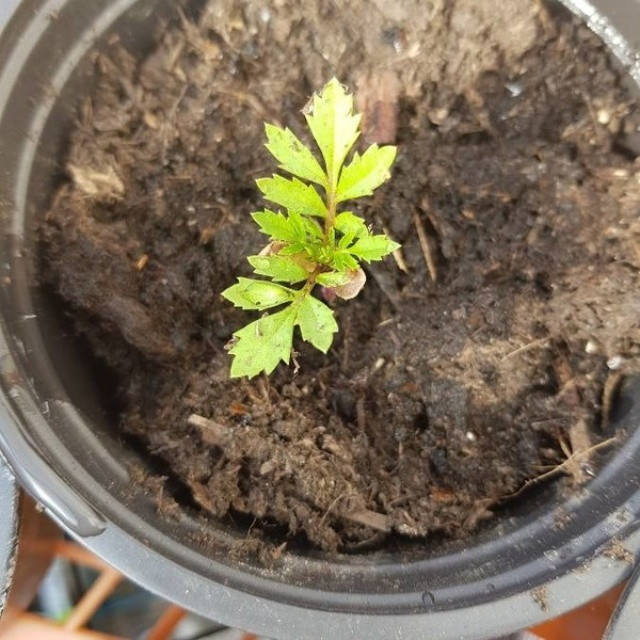obstacle: (5, 6, 629, 631)
